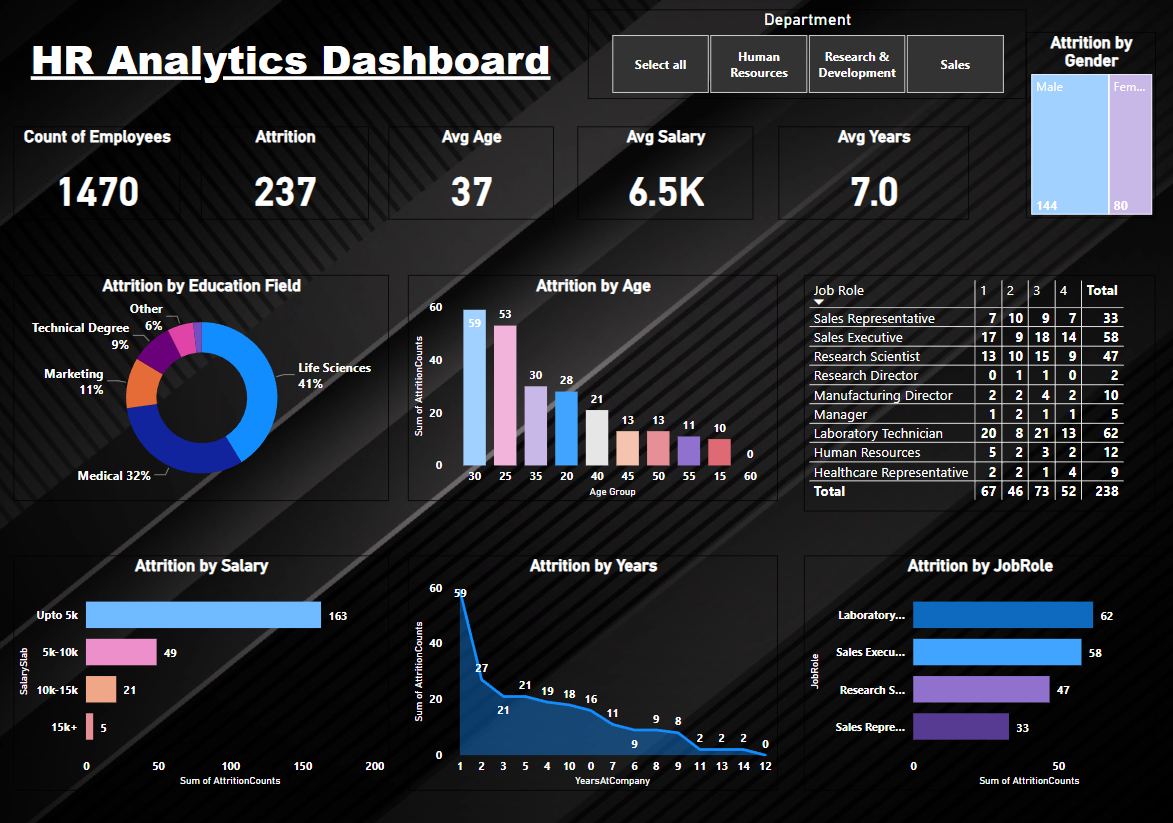

Layout of this report page (visuals, bound fields, positions):
{"tool":"powerbi","page":{"name":"Dashboard","canvas":[1280,900],"ordinal":0},"visuals":[{"type":"cardVisual","title":"Count of Employees ","fields":{"Data":["CountNonNull(HR Data xlsx - HR data.Employee Number)"]},"box":[14.3,141.4,181.4,101.4],"z":0},{"type":"cardVisual","title":"Attrition","fields":{"Data":["CountNonNull(HR Data xlsx - HR data.Attrition count)"]},"box":[218.6,141.4,182.9,101.4],"z":1000},{"type":"cardVisual","title":"Avg Age","fields":{"Data":["Avg(HR Data xlsx - HR data.Age)"]},"box":[422.9,141.4,180,101.4],"z":2000},{"type":"cardVisual","title":"Avg Salary ","fields":{"Data":["Avg(HR Data xlsx - HR data.Monthly Income)"]},"box":[628.6,141.4,191.4,101.4],"z":3000},{"type":"cardVisual","title":"Avg Years","fields":{"Data":["Avg(HR Data xlsx - HR data.Years At Company)"]},"box":[847.1,141.4,207.1,101.4],"z":4000},{"type":"donutChart","title":"Attrition by Education Field","fields":{"Category":["HR Data xlsx - HR data.Education Field"],"Y":["CountNonNull(HR Data xlsx - HR data.Attrition count)"]},"box":[14.3,304.3,408.6,245.7],"z":5000},{"type":"columnChart","title":"Attrition by Age","fields":{"Category":["HR Data xlsx - HR data.Age Group"],"Y":["Sum(HR_Analytics.AttritionCounts)"]},"box":[444.3,304.3,402.9,245.7],"z":6000},{"type":"pivotTable","fields":{"Rows":["HR Data xlsx - HR data.Job Role"],"Columns":["HR Data xlsx - HR data.Job Satisfaction"],"Values":["Sum(HR_Analytics.AttritionCounts)"]},"box":[875.7,304.3,382.9,257.1],"z":7000},{"type":"barChart","title":"Attrition by Salary","fields":{"Category":["HR_Analytics.SalarySlab"],"Y":["Sum(HR_Analytics.AttritionCounts)"]},"box":[14.3,610,408.6,255.7],"z":8000},{"type":"barChart","title":"Attrition by JobRole","fields":{"Category":["HR_Analytics.JobRole"],"Y":["Sum(HR_Analytics.AttritionCounts)"]},"box":[875.7,610,382.9,255.7],"z":9000},{"type":"areaChart","title":"Attrition by Years","fields":{"Category":["HR_Analytics.YearsAtCompany"],"Y":["Sum(HR_Analytics.AttritionCounts)"]},"box":[444.3,610,402.9,255.7],"z":10000},{"type":"treemap","title":"Attrition by Gender","fields":{"Group":["HR_Analytics.Gender"],"Values":["Sum(HR_Analytics.AttritionCounts)"]},"box":[1117.1,40,141.4,202.9],"z":11000},{"type":"slicer","title":"Department ","fields":{"Values":["HR_Analytics.Department"]},"box":[640,14.3,477.1,97.1],"z":12000},{"type":"textbox","box":[0,14.3,645.7,117.1],"z":13000}]}

Visuals, with their boxes in screenshot pixels (x1, y1, x2, y2), scaled from the page's 1280x900 canvas onto the 1173x823 screenshot:
"Count of Employees " cardVisual: left=13, top=129, right=179, bottom=222
"Attrition" cardVisual: left=200, top=129, right=368, bottom=222
"Avg Age" cardVisual: left=388, top=129, right=553, bottom=222
"Avg Salary " cardVisual: left=576, top=129, right=751, bottom=222
"Avg Years" cardVisual: left=776, top=129, right=966, bottom=222
"Attrition by Education Field" donutChart: left=13, top=278, right=388, bottom=503
"Attrition by Age" columnChart: left=407, top=278, right=776, bottom=503
pivotTable - HR Data xlsx - HR data.Job Role x HR Data xlsx - HR data.Job Satisfaction: left=802, top=278, right=1153, bottom=513
"Attrition by Salary" barChart: left=13, top=558, right=388, bottom=792
"Attrition by JobRole" barChart: left=802, top=558, right=1153, bottom=792
"Attrition by Years" areaChart: left=407, top=558, right=776, bottom=792
"Attrition by Gender" treemap: left=1024, top=37, right=1153, bottom=222
"Department " slicer: left=586, top=13, right=1024, bottom=102
textbox: left=0, top=13, right=592, bottom=120
